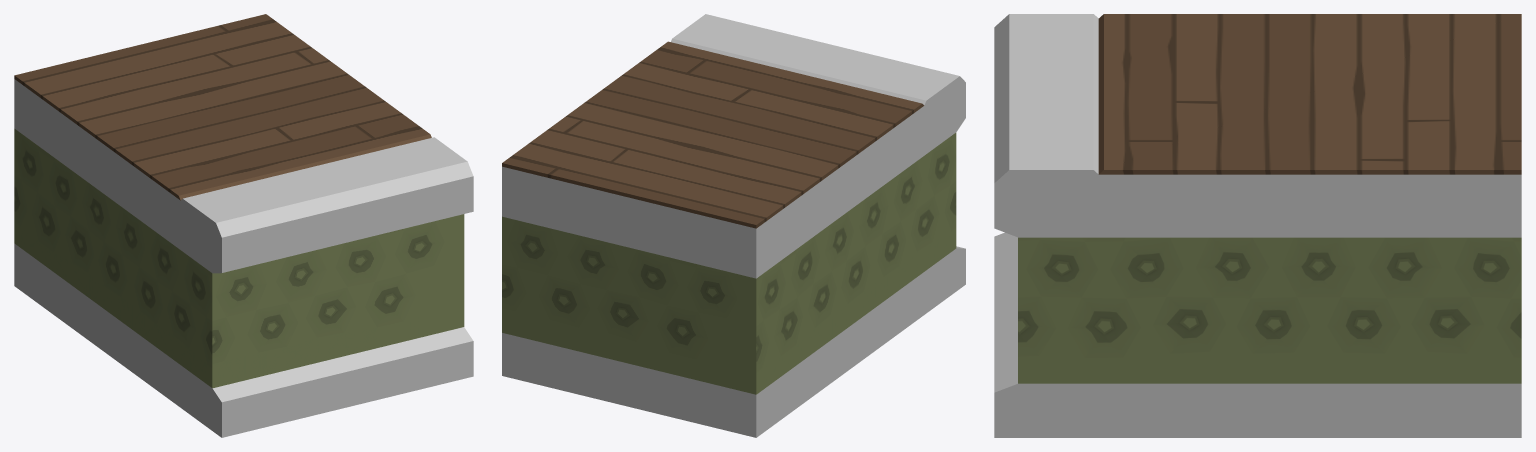
The model's file is SM_Prop_Platform_01_Half_01.fbx.
3 views of the same model, side by side, from view 1: azimuth 30°, elevation 25°; view 2: azimuth 150°, elevation 25°; view 3: azimuth 270°, elevation 25° (orthographic). The views are drawn at different scales.
Parts seen in each view (by area): view 1: SM_Prop_Platform_01_Half_01; view 2: SM_Prop_Platform_01_Half_01; view 3: SM_Prop_Platform_01_Half_01.
Part boxes in pixels (box(x1,y1,x2,y2)): SM_Prop_Platform_01_Half_01: box(14, 14, 473, 437); SM_Prop_Platform_01_Half_01: box(502, 14, 965, 437); SM_Prop_Platform_01_Half_01: box(994, 14, 1521, 437).
Bounding box in the file's own units: 125 × 100 × 178.
